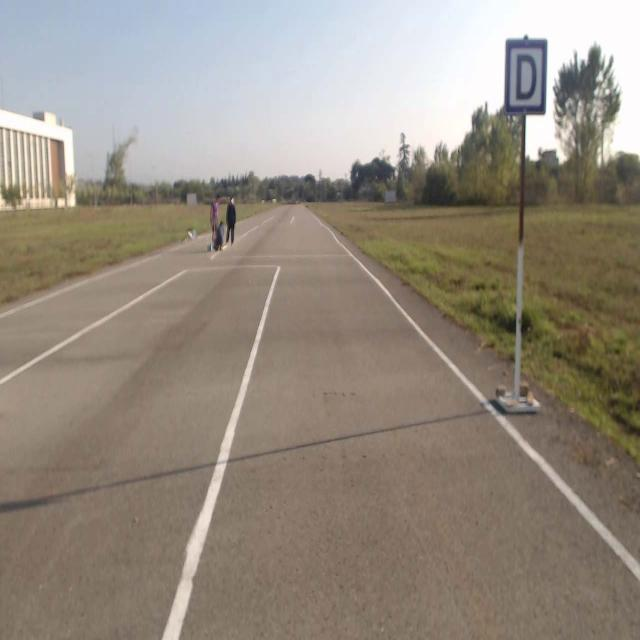durak: (505, 41, 546, 114)
